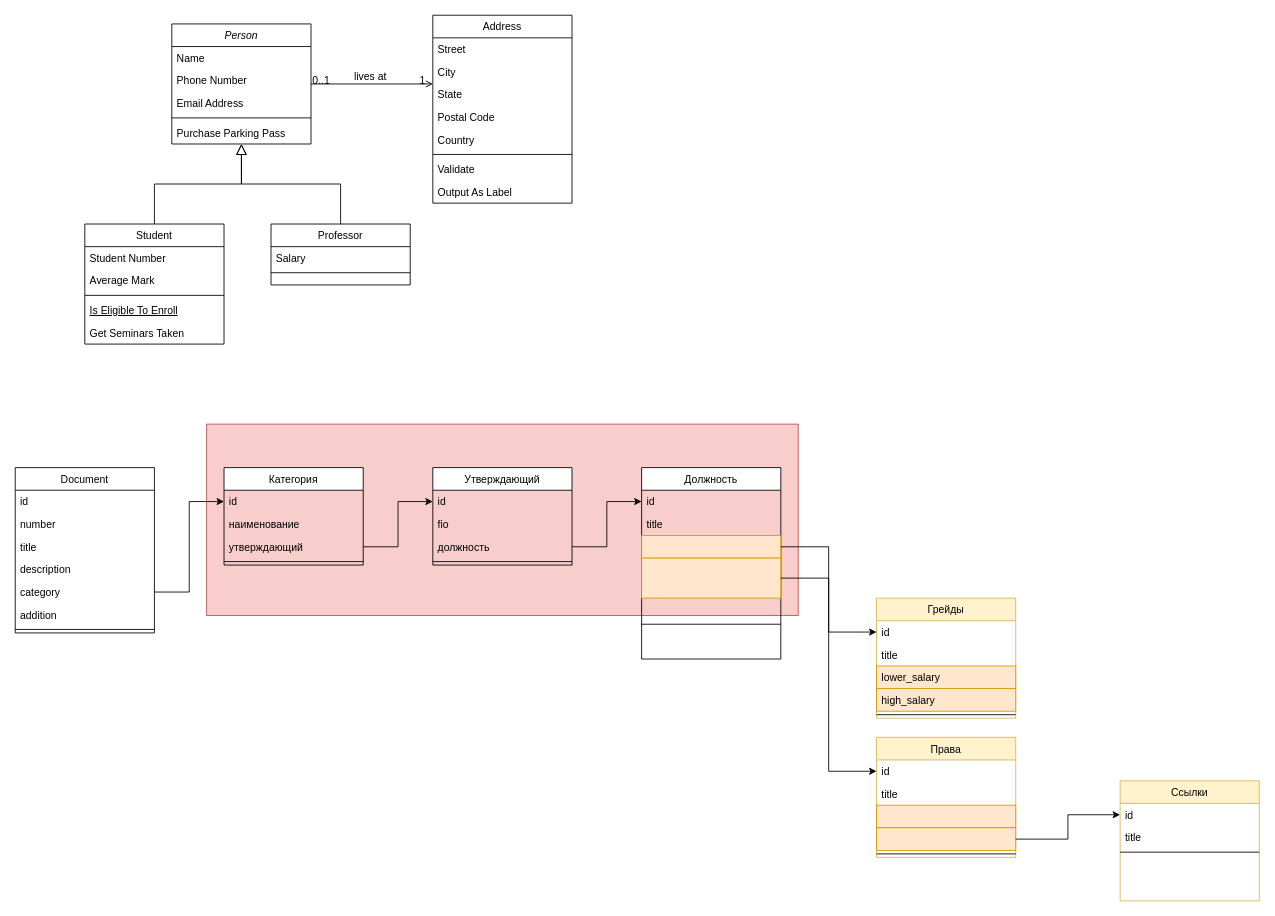
The diagram is 1275 pixels wide and 916 high, and some of its shapes have lost their labels. The shapes that lost their labels are listed below. From the top down, each one's centre as x and y in pixels, then its label:
At (711,546): "грейд".
At (711,577): "доступ информационной безопасности".
At (946,816): "Действия".
At (946,838): "ссылка".
